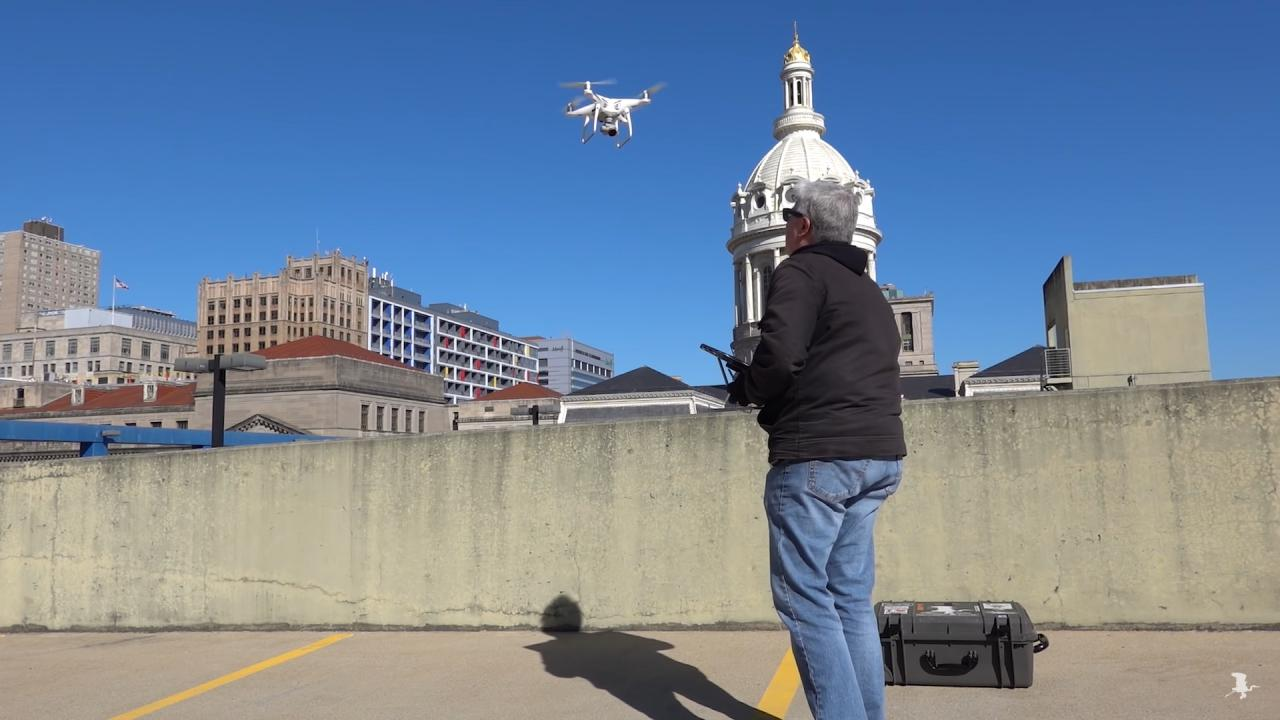Drone: (542, 67, 677, 159)
